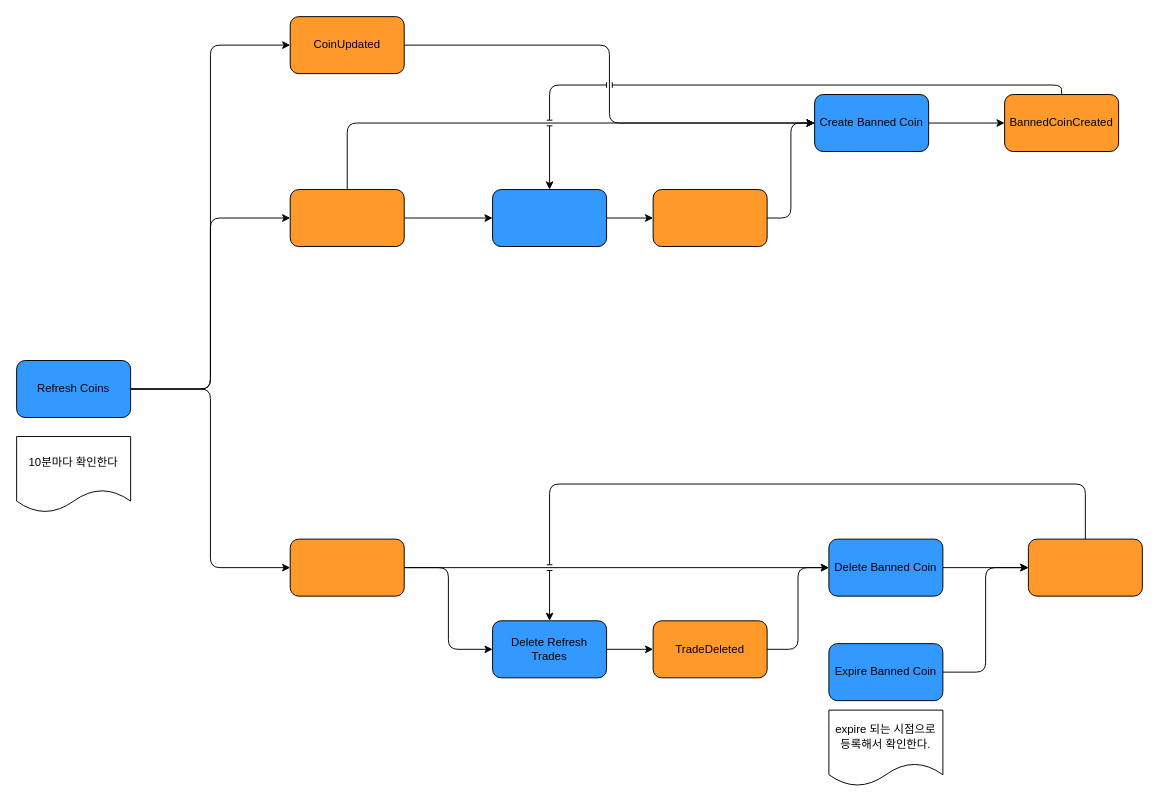
Some shapes in this 1159 by 803 pixel diagram are drawn without their labels. The centre of each missing label's shape, as x and y in pixels:
"Add Refresh Trades Job" belongs at point 549,218.
"BannedCoinDeleted" belongs at point 1084,567.
"CoinCreated" belongs at point 346,218.
"CoinDeleted" belongs at point 346,567.
"TradeUpdated" belongs at point 709,218.
